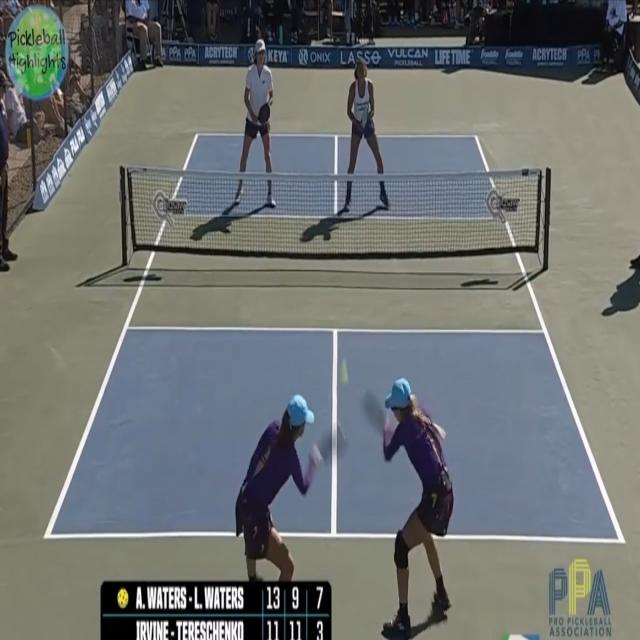Court: (46, 130, 623, 539)
